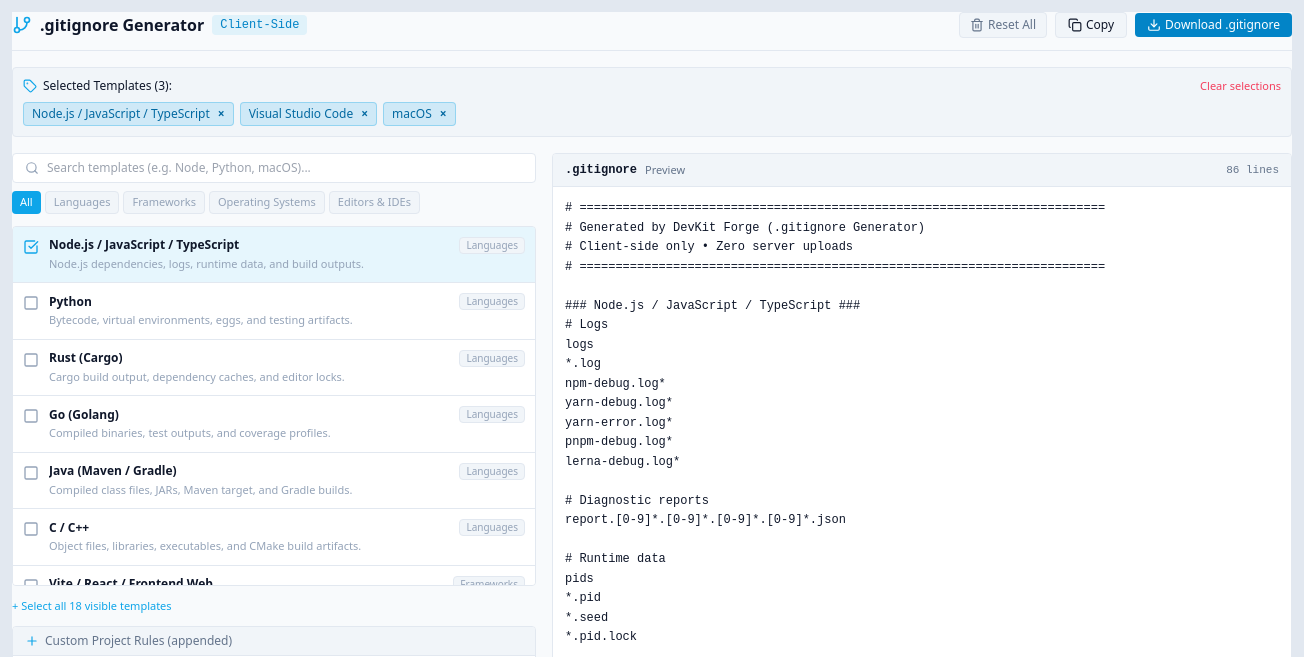
Test: GitignoreGenerator Component › searches templates by keyword query
The width and height of the screenshot is (1304, 657).
In the field named "filter templates": (285, 168) [47,160,523,176], type "python"
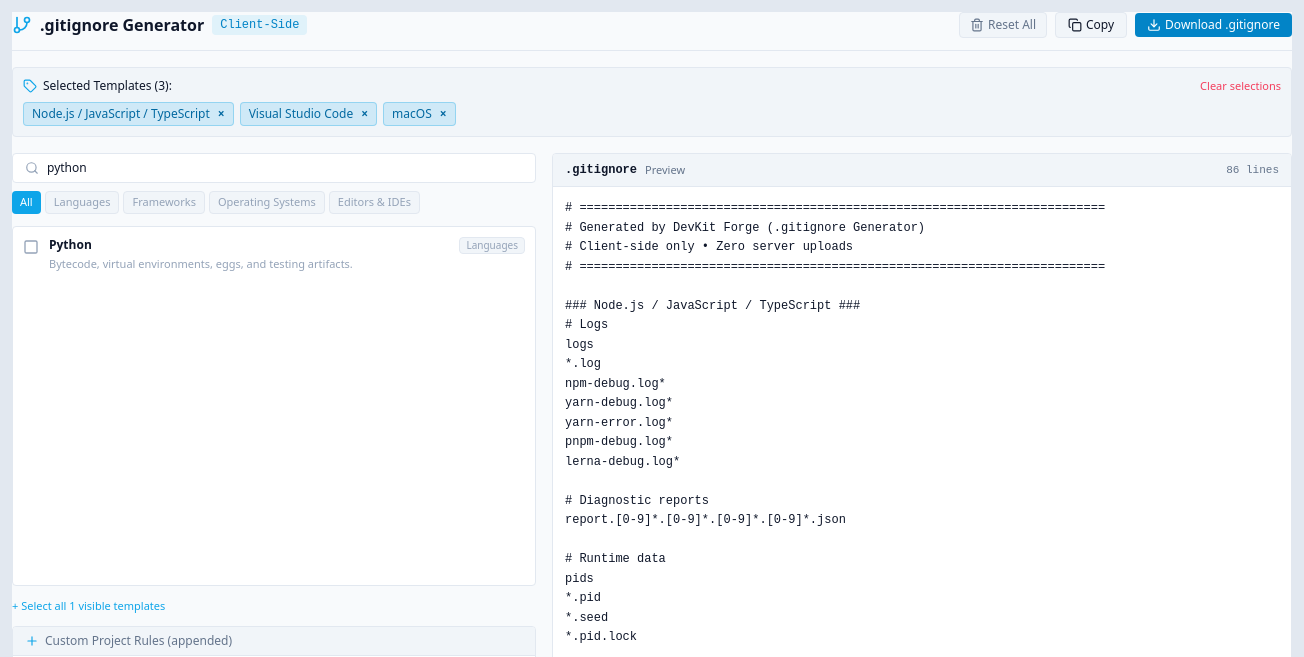
Expected: the text "Python" is shown, [49,237,92,253]
Expected: the text "Rust (Cargo)" is gone
